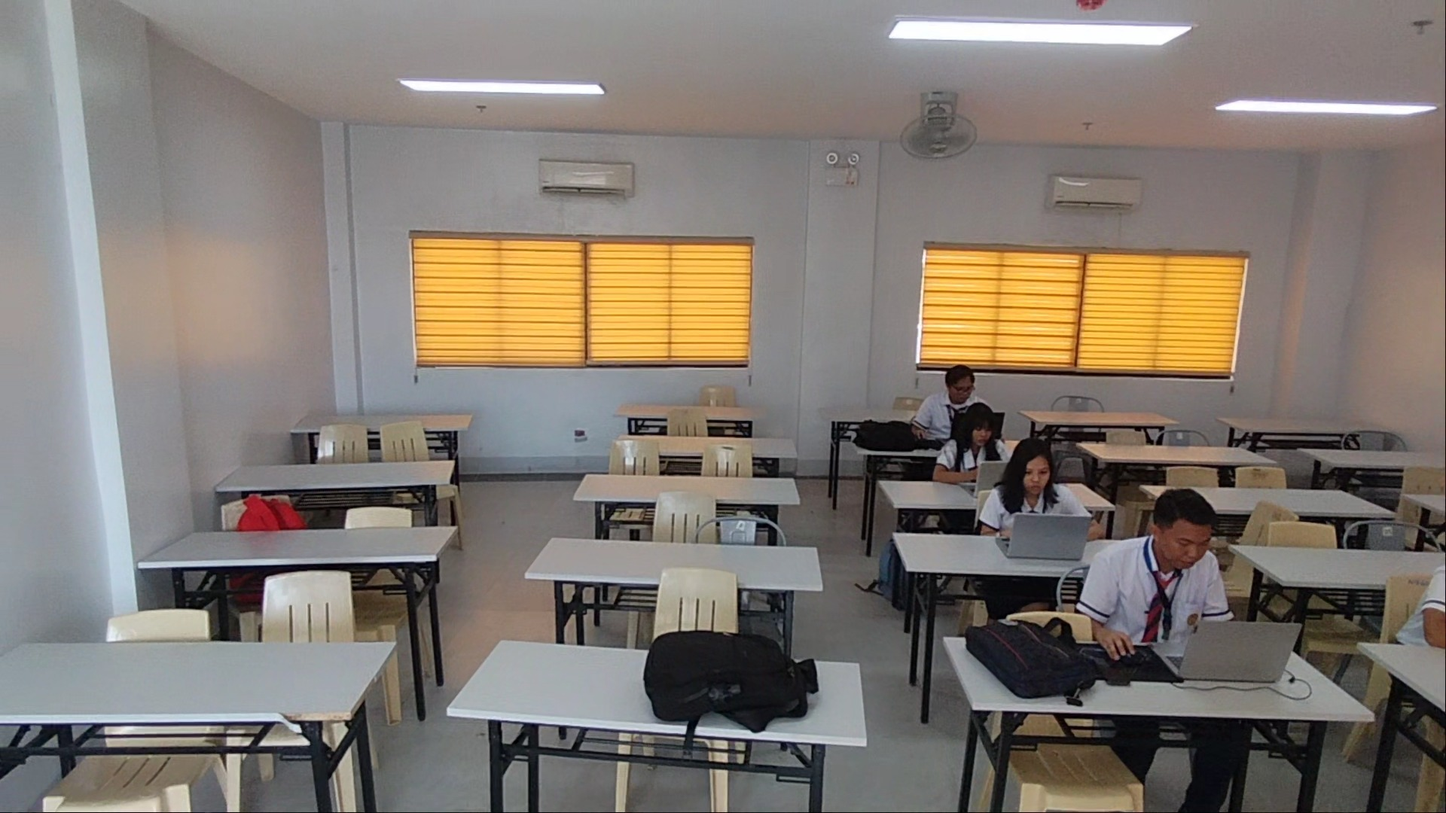with-student: (943, 485, 1376, 770), (891, 436, 1154, 597), (877, 402, 1116, 523), (854, 362, 1041, 468)
